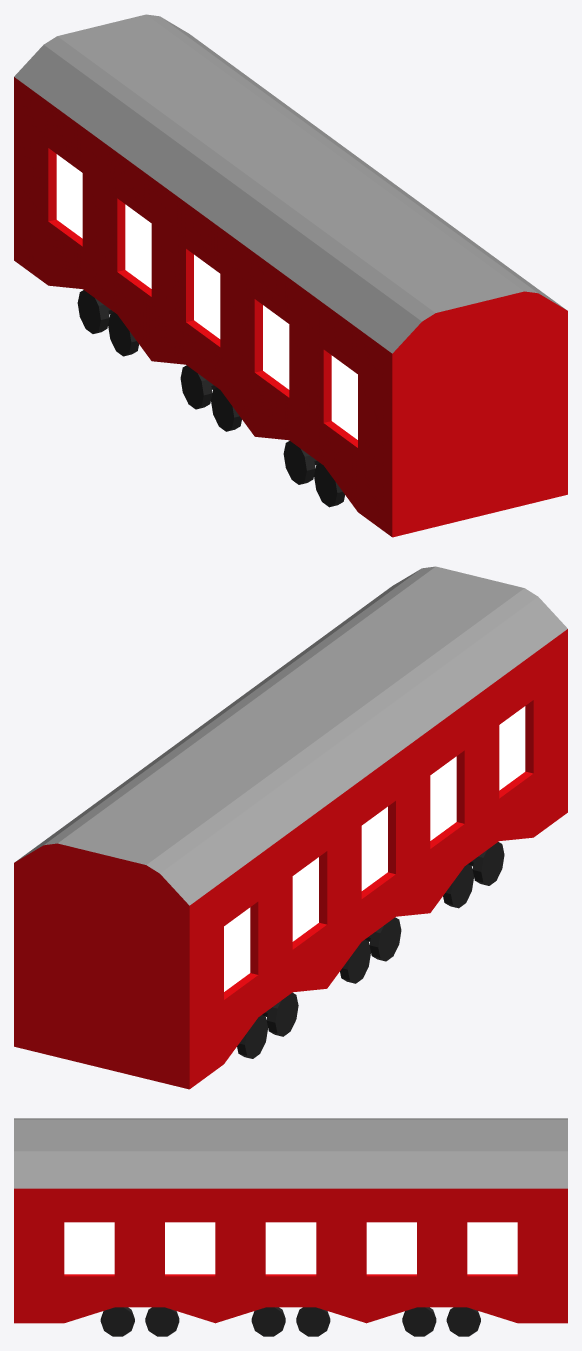
The model's file is train.glb.
3 renders of one model, top to bottom at view 1: azimuth 30°, elevation 25°; view 2: azimuth 150°, elevation 25°; view 3: azimuth 270°, elevation 25°, orthographic. The views are drawn at different scales.
Parts seen in each view (by area): view 1: Carriage, Carriage.001, Interior, Wheel_3, Wheel_1, Wheel_5, Wheel_4, Wheel_6, Wheel_2; view 2: Carriage, Carriage.001, Interior, Wheel_4, Wheel_6, Wheel_2, Wheel_1, Wheel_3, Wheel_5; view 3: Carriage, Carriage.001, Interior, Wheel_4, Wheel_3, Wheel_1, Wheel_6, Wheel_5, Wheel_2.
Boxes of the visible parts, box(x1,y1,x2,y2) form: Carriage: box(14, 77, 567, 537); Carriage.001: box(14, 14, 566, 353); Interior: box(56, 154, 357, 439); Wheel_3: box(180, 365, 216, 409); Wheel_1: box(77, 290, 113, 333); Wheel_5: box(283, 441, 319, 484); Wheel_4: box(211, 387, 241, 431); Wheel_6: box(314, 463, 344, 507); Wheel_2: box(108, 312, 138, 356); Carriage: box(14, 629, 567, 1089); Carriage.001: box(15, 566, 567, 905); Interior: box(224, 706, 525, 991); Wheel_4: box(365, 917, 401, 961); Wheel_6: box(468, 842, 504, 885); Wheel_2: box(262, 992, 298, 1036); Wheel_1: box(237, 1015, 267, 1058); Wheel_3: box(340, 939, 370, 983); Wheel_5: box(443, 864, 473, 908); Carriage: box(14, 1188, 567, 1323); Carriage.001: box(14, 1118, 567, 1188); Interior: box(64, 1222, 517, 1274); Wheel_4: box(251, 1307, 285, 1336); Wheel_3: box(296, 1307, 330, 1336); Wheel_1: box(446, 1307, 480, 1336); Wheel_6: box(100, 1307, 134, 1336); Wheel_5: box(145, 1307, 179, 1336); Wheel_2: box(402, 1307, 436, 1336).
Bounding box in the file's own units: 2 × 2.55 × 7.47.
